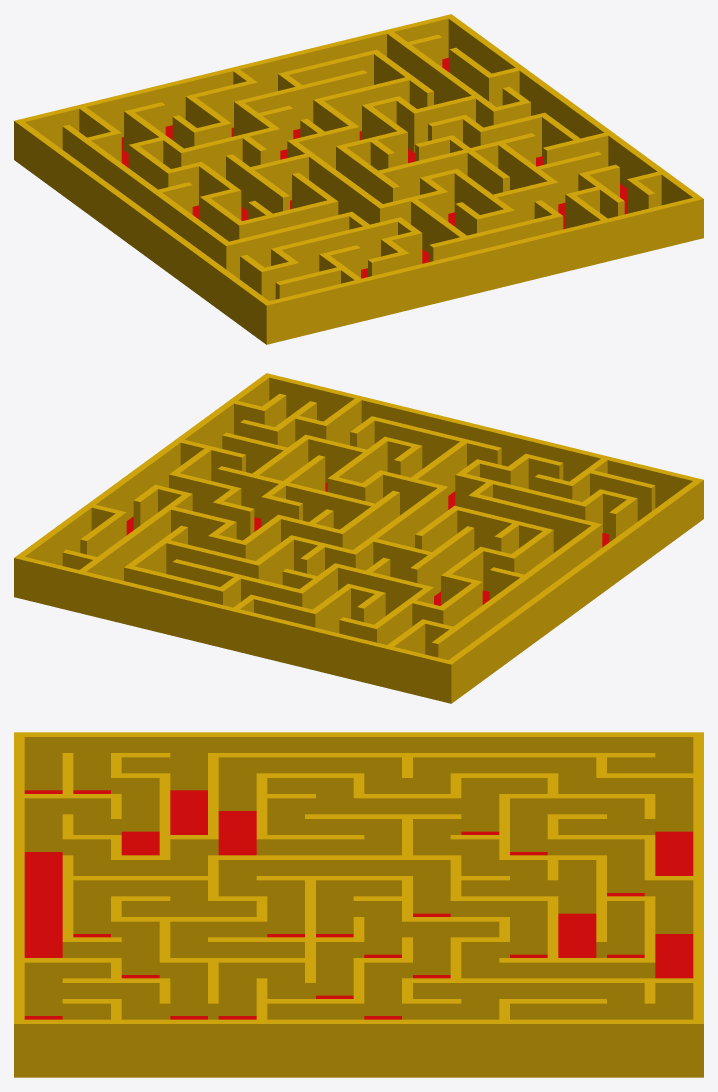
Rendered from Level36Ground.FBX.
The picture shows the model from 3 angles, top to bottom: view 1: azimuth 30°, elevation 25°; view 2: azimuth 150°, elevation 25°; view 3: azimuth 270°, elevation 25°; orthographic projection. The views are drawn at different scales.
Parts seen in each view (by area): view 1: Labyrinth003; view 2: Labyrinth003; view 3: Labyrinth003.
Boxes of the visible parts, x1,y1,x2,y2 form: Labyrinth003: (14, 14, 703, 344); Labyrinth003: (14, 373, 703, 703); Labyrinth003: (14, 732, 703, 1077).
Size of the model in its own units: 327 by 28 by 327.
